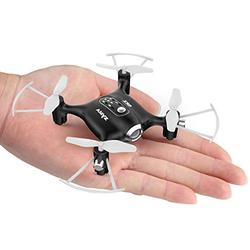drone: (9, 52, 221, 194)
